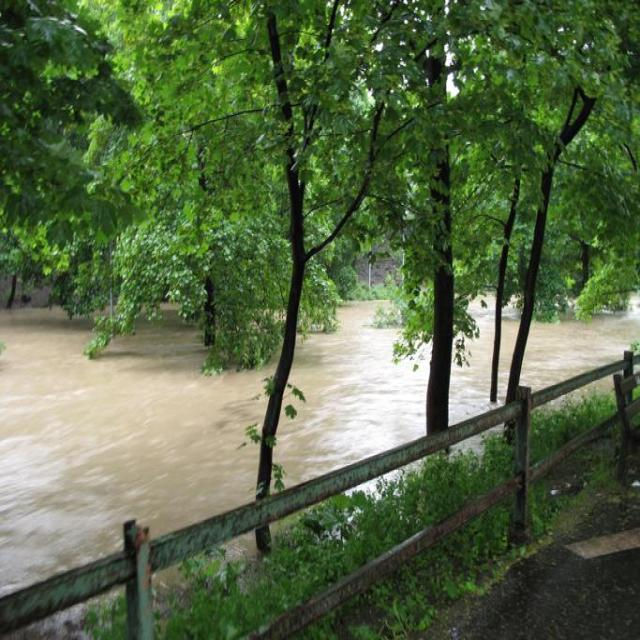flood: (0, 286, 640, 594)
